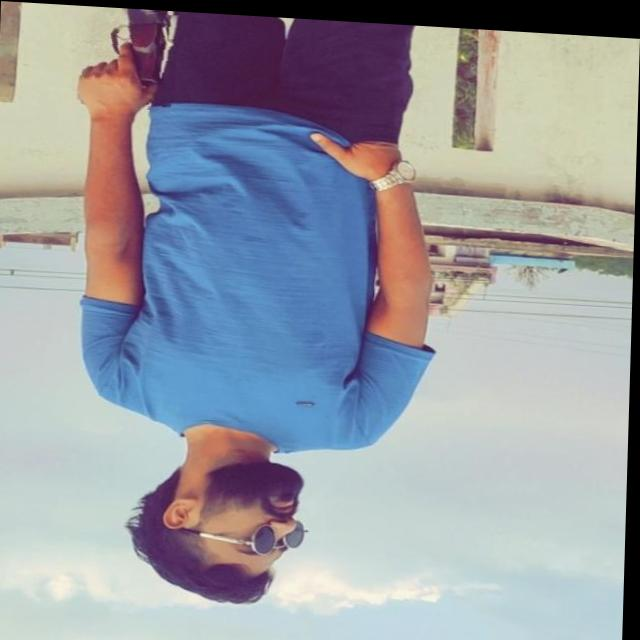handgun: (71, 3, 178, 108)
